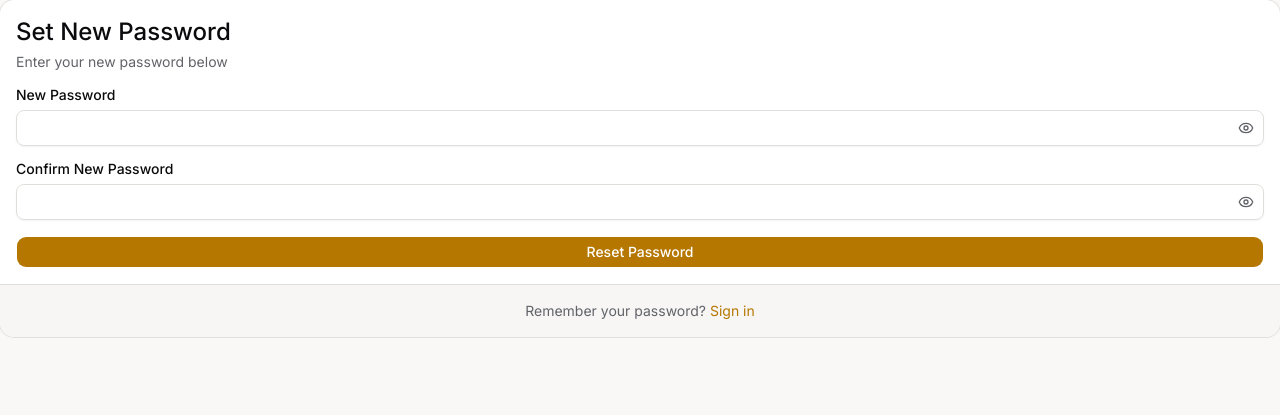
ResetPasswordForm › Submission › shows error message when resetPassword returns an error
Type "newpassword123" into the password field labelled "New Password".
click(640, 128); type("newpassword123")  # box left=16, top=110, right=1264, bottom=146
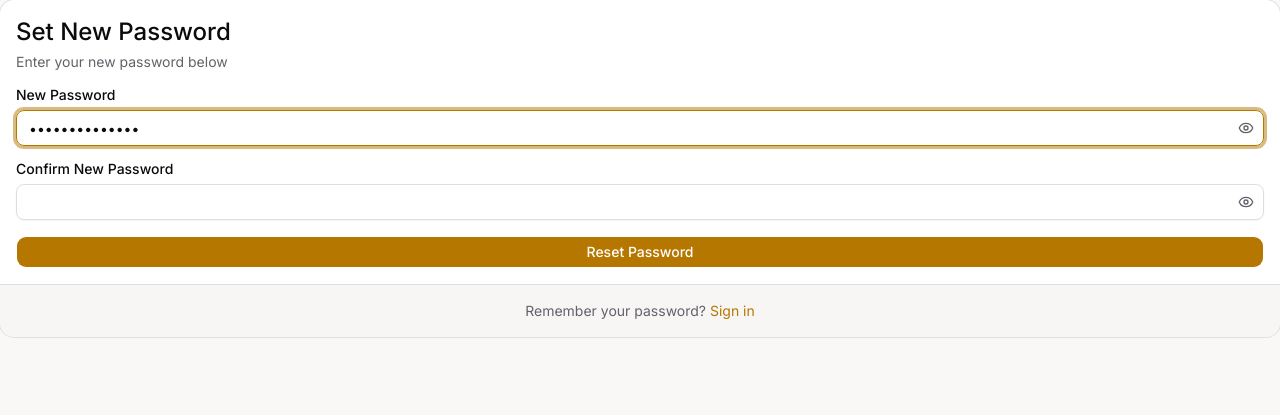
Type "newpassword123" into the password field labelled "Confirm New Password".
click(640, 202); type("newpassword123")  # box left=16, top=184, right=1264, bottom=220
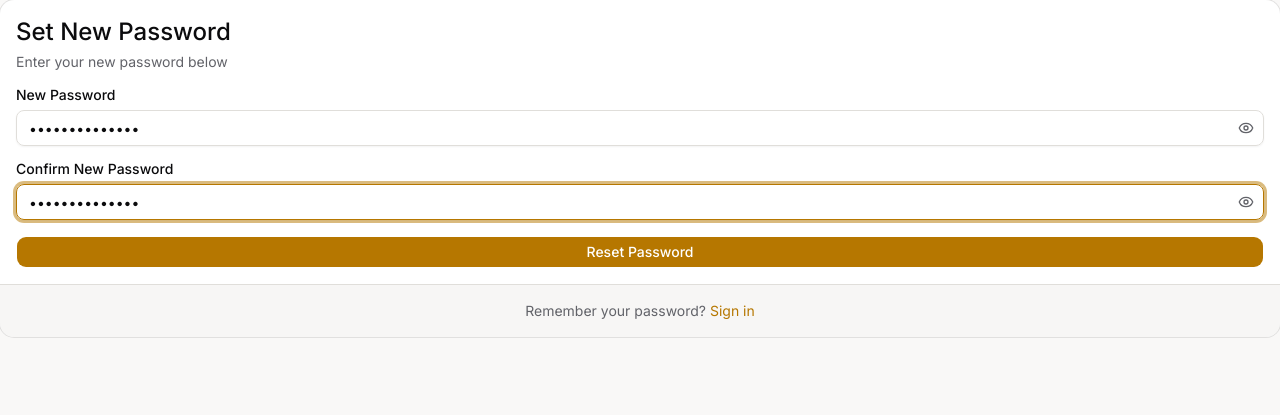
Click the button "Reset Password".
click(640, 252)  # box left=16, top=236, right=1264, bottom=268
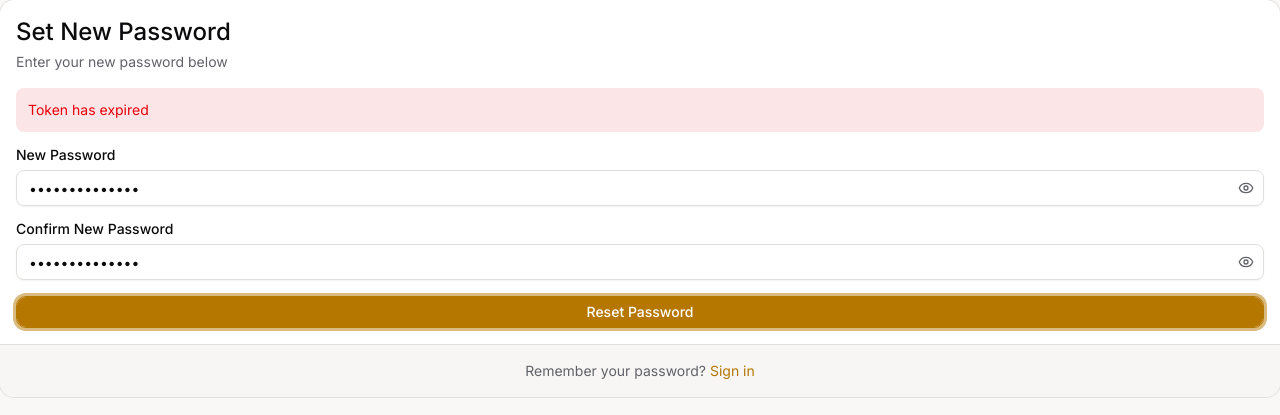
expect the text "Token has expired" is shown: met, box left=16, top=88, right=1264, bottom=132
